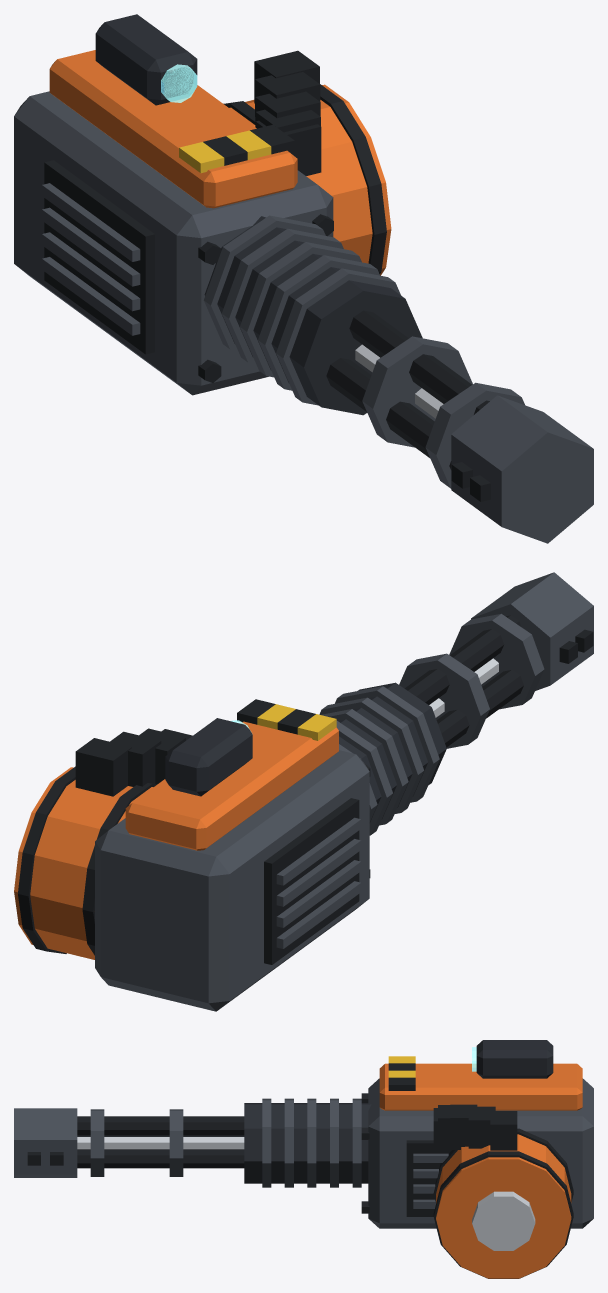
File: weapon_autocannon_mk1.glb
3 renders of one model, top to bottom at view 1: azimuth 30°, elevation 25°; view 2: azimuth 150°, elevation 25°; view 3: azimuth 270°, elevation 25°, orthographic. The views are drawn at different scales.
Visible parts, largest first — view 1: ac_body, ac_rail, ac_muzzle, ac_cooling_rings, ac_shroud, ac_clamps, ac_vent_R, ac_vent_R_frame, ac_barrels, ac_drum, ac_optic, ac_feed_chute (+7 smaller); view 2: ac_body, ac_rail, ac_drum, ac_cooling_rings, ac_clamps, ac_muzzle, ac_vent_R, ac_vent_R_frame, ac_feed_chute, ac_optic, ac_barrels, ac_drum_bands (+4 smaller); view 3: ac_drum, ac_body, ac_rail, ac_shroud, ac_barrels, ac_cooling_rings, ac_muzzle, ac_feed_chute, ac_drum_cap, ac_optic, ac_drum_bands, ac_clamps (+6 smaller).
Part boxes in pixels (x1,y1,x2,y2): ac_body: (14, 91, 333, 395); ac_rail: (49, 50, 297, 208); ac_muzzle: (451, 395, 593, 543); ac_cooling_rings: (203, 215, 400, 405); ac_shroud: (204, 216, 422, 415); ac_clamps: (362, 336, 524, 488); ac_vent_R: (42, 183, 140, 335); ac_vent_R_frame: (44, 160, 154, 354); ac_barrels: (326, 310, 489, 469); ac_drum: (229, 84, 391, 275); ac_optic: (95, 14, 197, 105); ac_feed_chute: (254, 50, 321, 175); ac_body: (95, 750, 369, 1011); ac_rail: (125, 721, 338, 850); ac_drum: (14, 767, 153, 959); ac_cooling_rings: (319, 686, 439, 835); ac_clamps: (399, 613, 544, 748); ac_muzzle: (471, 572, 593, 690); ac_vent_R: (276, 817, 361, 948); ac_vent_R_frame: (264, 798, 359, 964); ac_feed_chute: (75, 728, 192, 796); ac_optic: (165, 718, 252, 796); ac_barrels: (404, 615, 523, 747); ac_drum_bands: (18, 766, 156, 955); ac_drum: (436, 1134, 571, 1278); ac_body: (368, 1078, 593, 1228); ac_rail: (379, 1063, 582, 1110); ac_shroud: (244, 1103, 371, 1183); ac_barrels: (77, 1116, 244, 1168); ac_cooling_rings: (262, 1098, 361, 1187); ac_muzzle: (14, 1108, 77, 1177); ac_feed_chute: (433, 1104, 517, 1150); ac_drum_cap: (472, 1191, 535, 1250); ac_optic: (476, 1040, 553, 1078); ac_drum_bands: (433, 1128, 573, 1278); ac_clamps: (90, 1109, 183, 1176).
Size of what is drawn, in the model's own units: 0.935 by 0.8822 by 2.57.
